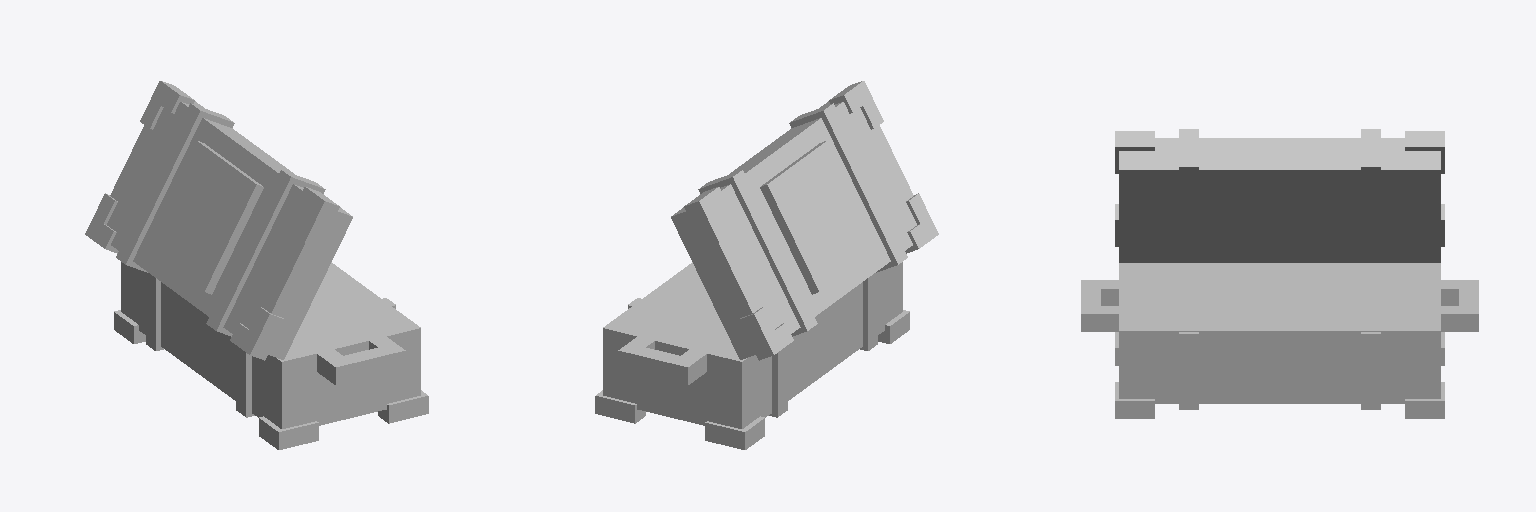
The model's file is mars_crate_open.obj.
3 renders of one model, left to right at view 1: azimuth 30°, elevation 25°; view 2: azimuth 150°, elevation 25°; view 3: azimuth 270°, elevation 25°, orthographic.
Parts seen in each view (by area): view 1: container, cover, computer, cube, tie_cover, handle, tie_container; view 2: container, cover, computer, cube, tie_cover, handle, tie_container; view 3: container, cover, cube, handle, tie_container, tie_cover.
Boxes of the visible parts, x1=… form: container: x1=121, y1=262, x2=420, y2=428; cover: x1=107, y1=101, x2=352, y2=359; computer: x1=144, y1=140, x2=263, y2=294; cube: x1=85, y1=81, x2=428, y2=449; tie_cover: x1=116, y1=103, x2=325, y2=336; handle: x1=317, y1=336, x2=405, y2=385; tie_container: x1=146, y1=272, x2=395, y2=417; container: x1=603, y1=262, x2=902, y2=428; cover: x1=671, y1=101, x2=916, y2=359; computer: x1=760, y1=140, x2=879, y2=294; cube: x1=595, y1=81, x2=938, y2=449; tie_cover: x1=698, y1=103, x2=907, y2=336; handle: x1=618, y1=336, x2=706, y2=385; tie_container: x1=628, y1=272, x2=877, y2=417; container: x1=1119, y1=263, x2=1440, y2=403; cover: x1=1119, y1=138, x2=1440, y2=262; cube: x1=1115, y1=131, x2=1444, y2=418; handle: x1=1081, y1=280, x2=1478, y2=331; tie_container: x1=1179, y1=332, x2=1380, y2=409; tie_cover: x1=1179, y1=129, x2=1380, y2=169.
Size of the model in its own units: 0.6459 by 0.8188 by 1.24.